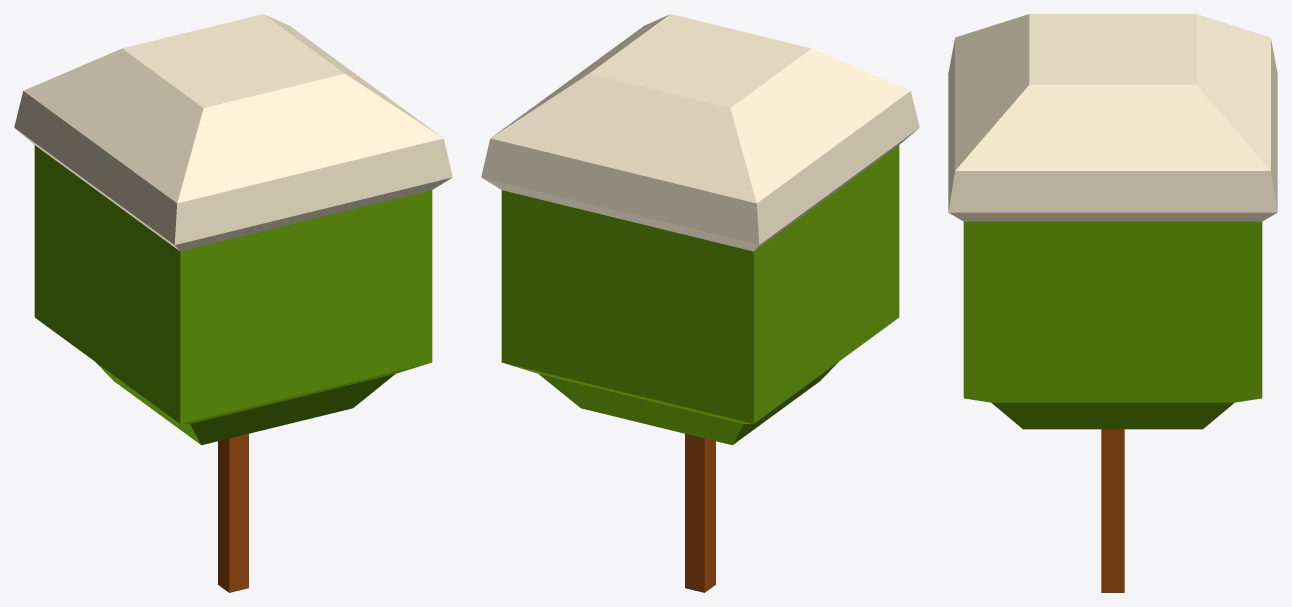
The model's file is Tree_31_Winter.fbx.
3 views of the same model, side by side, from view 1: azimuth 30°, elevation 25°; view 2: azimuth 150°, elevation 25°; view 3: azimuth 270°, elevation 25° (orthographic). The views are drawn at different scales.
Parts seen in each view (by area): view 1: Tree_31_Winter; view 2: Tree_31_Winter; view 3: Tree_31_Winter.
Part boxes in pixels (x1,y1,x2,y2): Tree_31_Winter: (14,14,452,592); Tree_31_Winter: (481,14,919,592); Tree_31_Winter: (948,14,1277,592).
Bounding box in the file's own units: 199 × 359 × 199.
